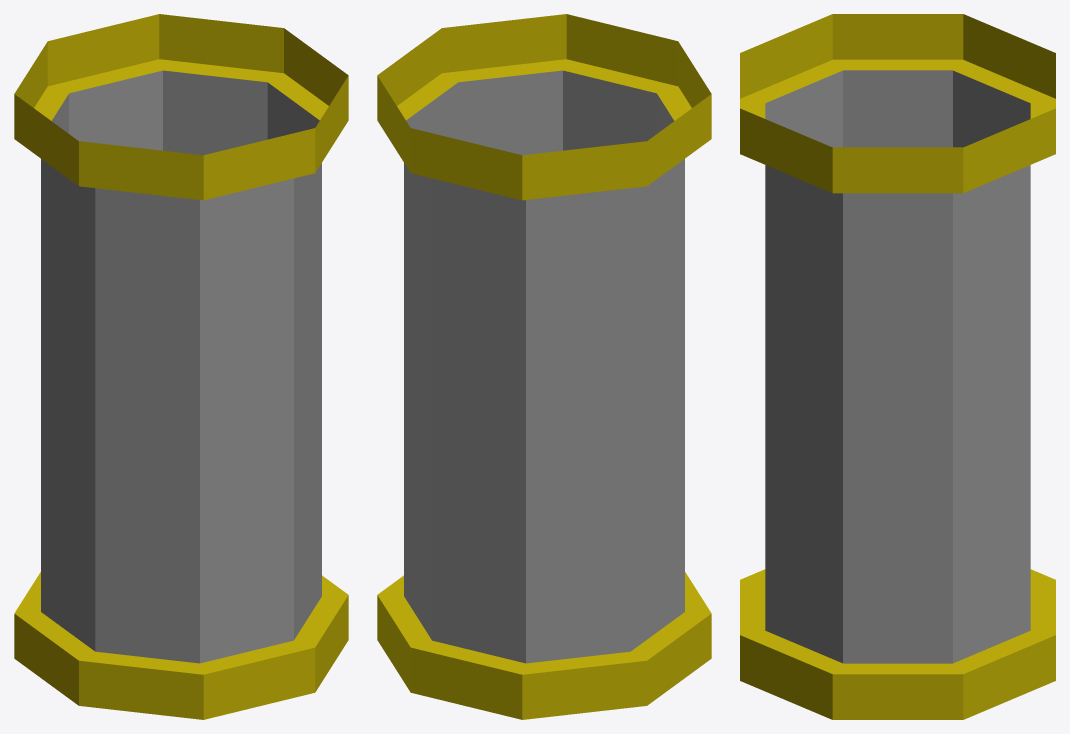
The model's file is mpe_wheel_3_base_passthrough.dae.
The picture shows the model from 3 angles, left to right: view 1: azimuth 30°, elevation 25°; view 2: azimuth 150°, elevation 25°; view 3: azimuth 270°, elevation 25°; orthographic projection.
Parts seen in each view (by area): view 1: wheel_base_passthrough; view 2: wheel_base_passthrough; view 3: wheel_base_passthrough.
Boxes of the visible parts, <box> form: wheel_base_passthrough: <box>14,14,348,719</box>; wheel_base_passthrough: <box>377,14,711,719</box>; wheel_base_passthrough: <box>740,14,1055,719</box>.
Size of the model in its own units: 0.125 by 0.125 by 0.25.
